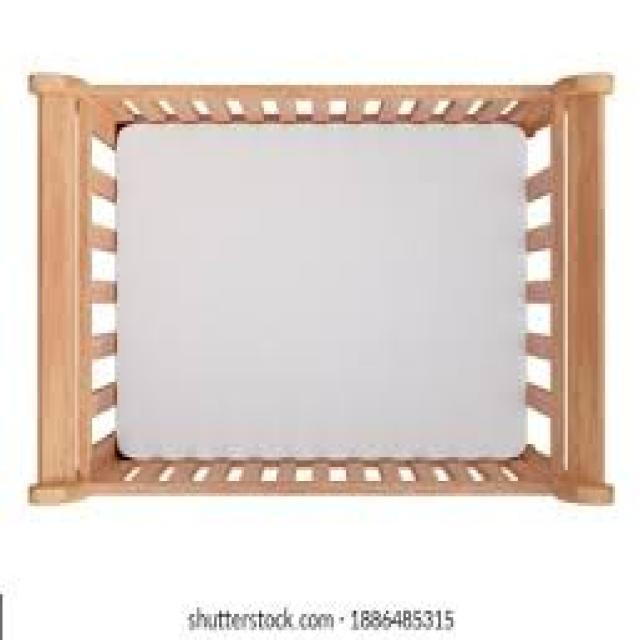crib: (25, 65, 615, 503)
